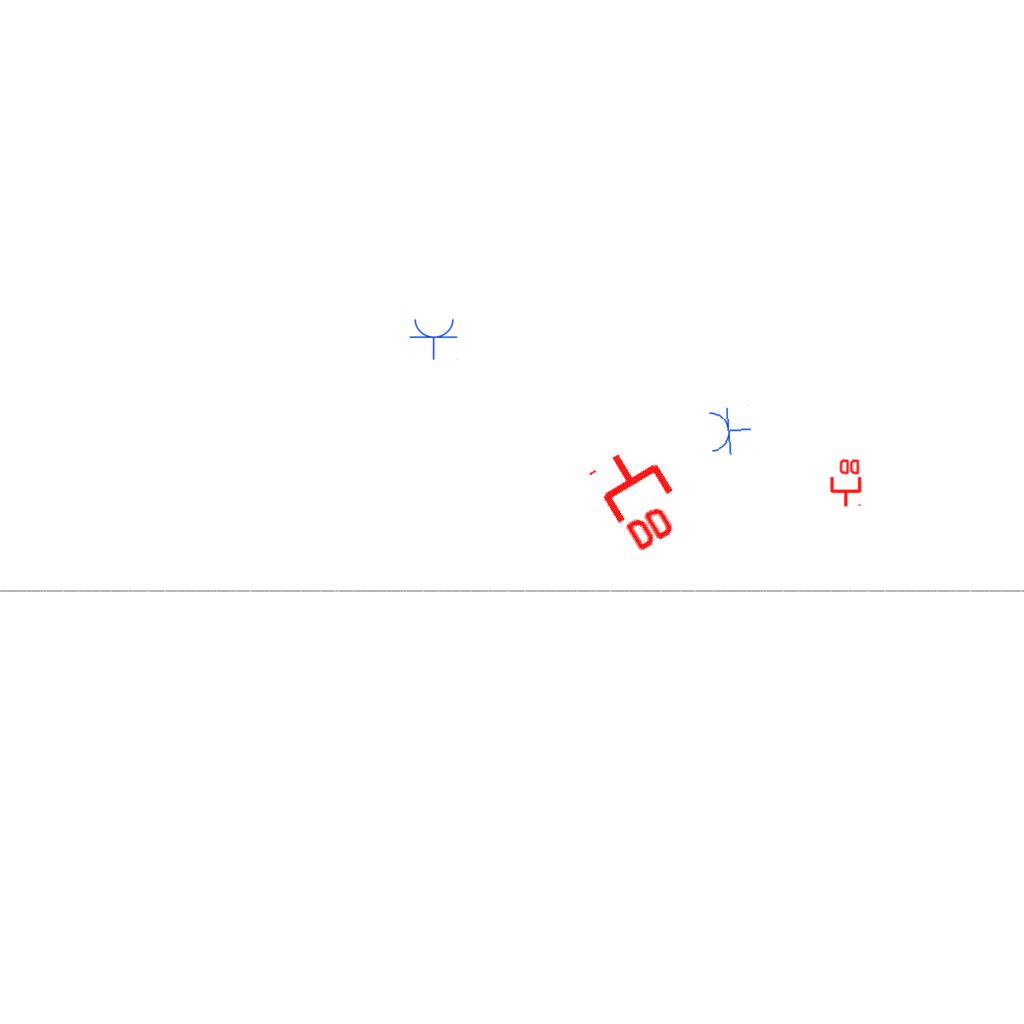Datenanschluss_zweifach: (585, 434, 698, 559), (828, 457, 862, 508)
Schukosteckdose_einfach: (706, 403, 754, 458), (409, 317, 459, 360)
